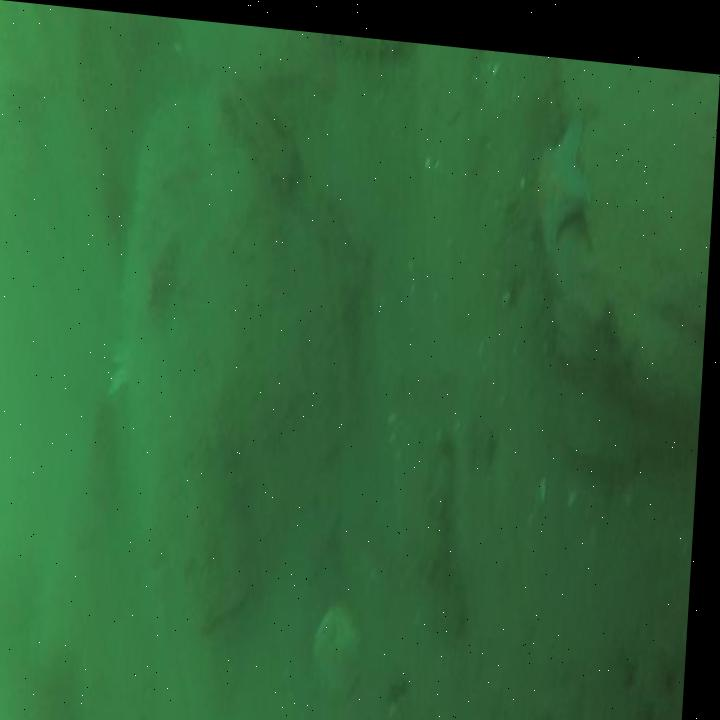holothurian: (423, 421, 483, 637)
scallop: (315, 592, 374, 703)
starfish: (534, 103, 600, 250)
